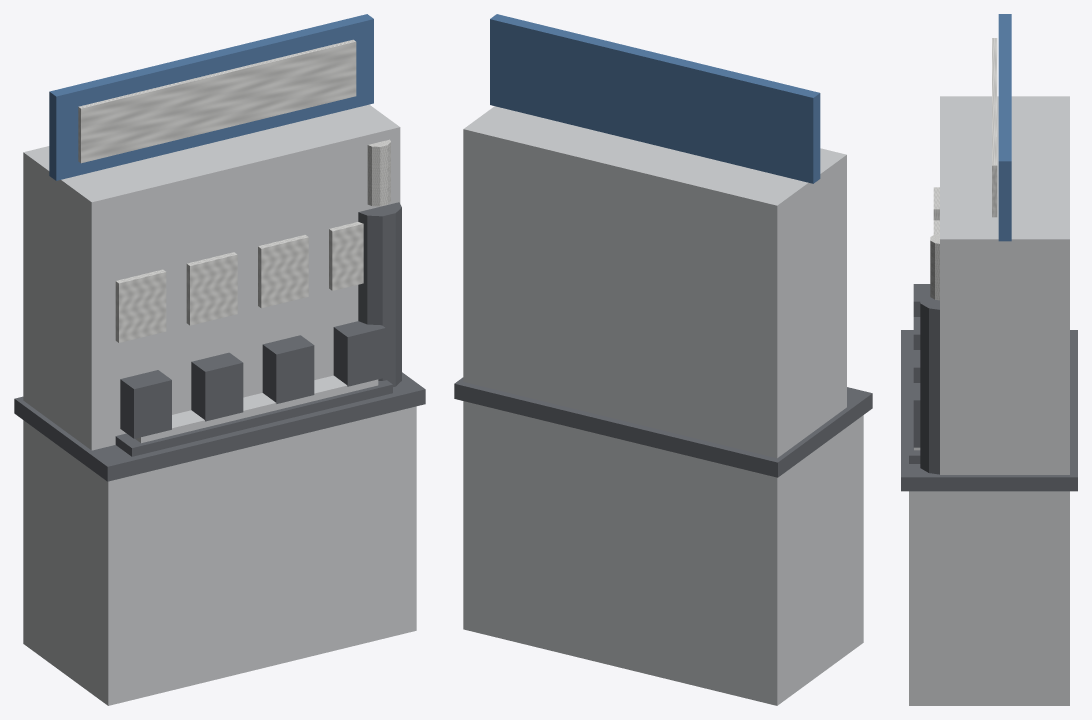
The model's file is cruise-ship-deck-and-lounge-cruise-ship-deck-and-loung-d4927d0f__38447.glb.
3 renders of one model, left to right at view 1: azimuth 30°, elevation 25°; view 2: azimuth 150°, elevation 25°; view 3: azimuth 270°, elevation 25°, orthographic. The views are drawn at different scales.
Visible parts, largest first — view 1: cruise-ship-deck-and-lounge-drinks-fountain; view 2: cruise-ship-deck-and-lounge-drinks-fountain; view 3: cruise-ship-deck-and-lounge-drinks-fountain.
Boxes of the visible parts, bbox=[...] form: cruise-ship-deck-and-lounge-drinks-fountain: bbox=[14, 14, 425, 705]; cruise-ship-deck-and-lounge-drinks-fountain: bbox=[454, 14, 872, 705]; cruise-ship-deck-and-lounge-drinks-fountain: bbox=[901, 14, 1077, 705].
Size of the model in its own units: 1.34 by 2.32 by 0.6801.
Materials: 4 (1 with a texture image).
